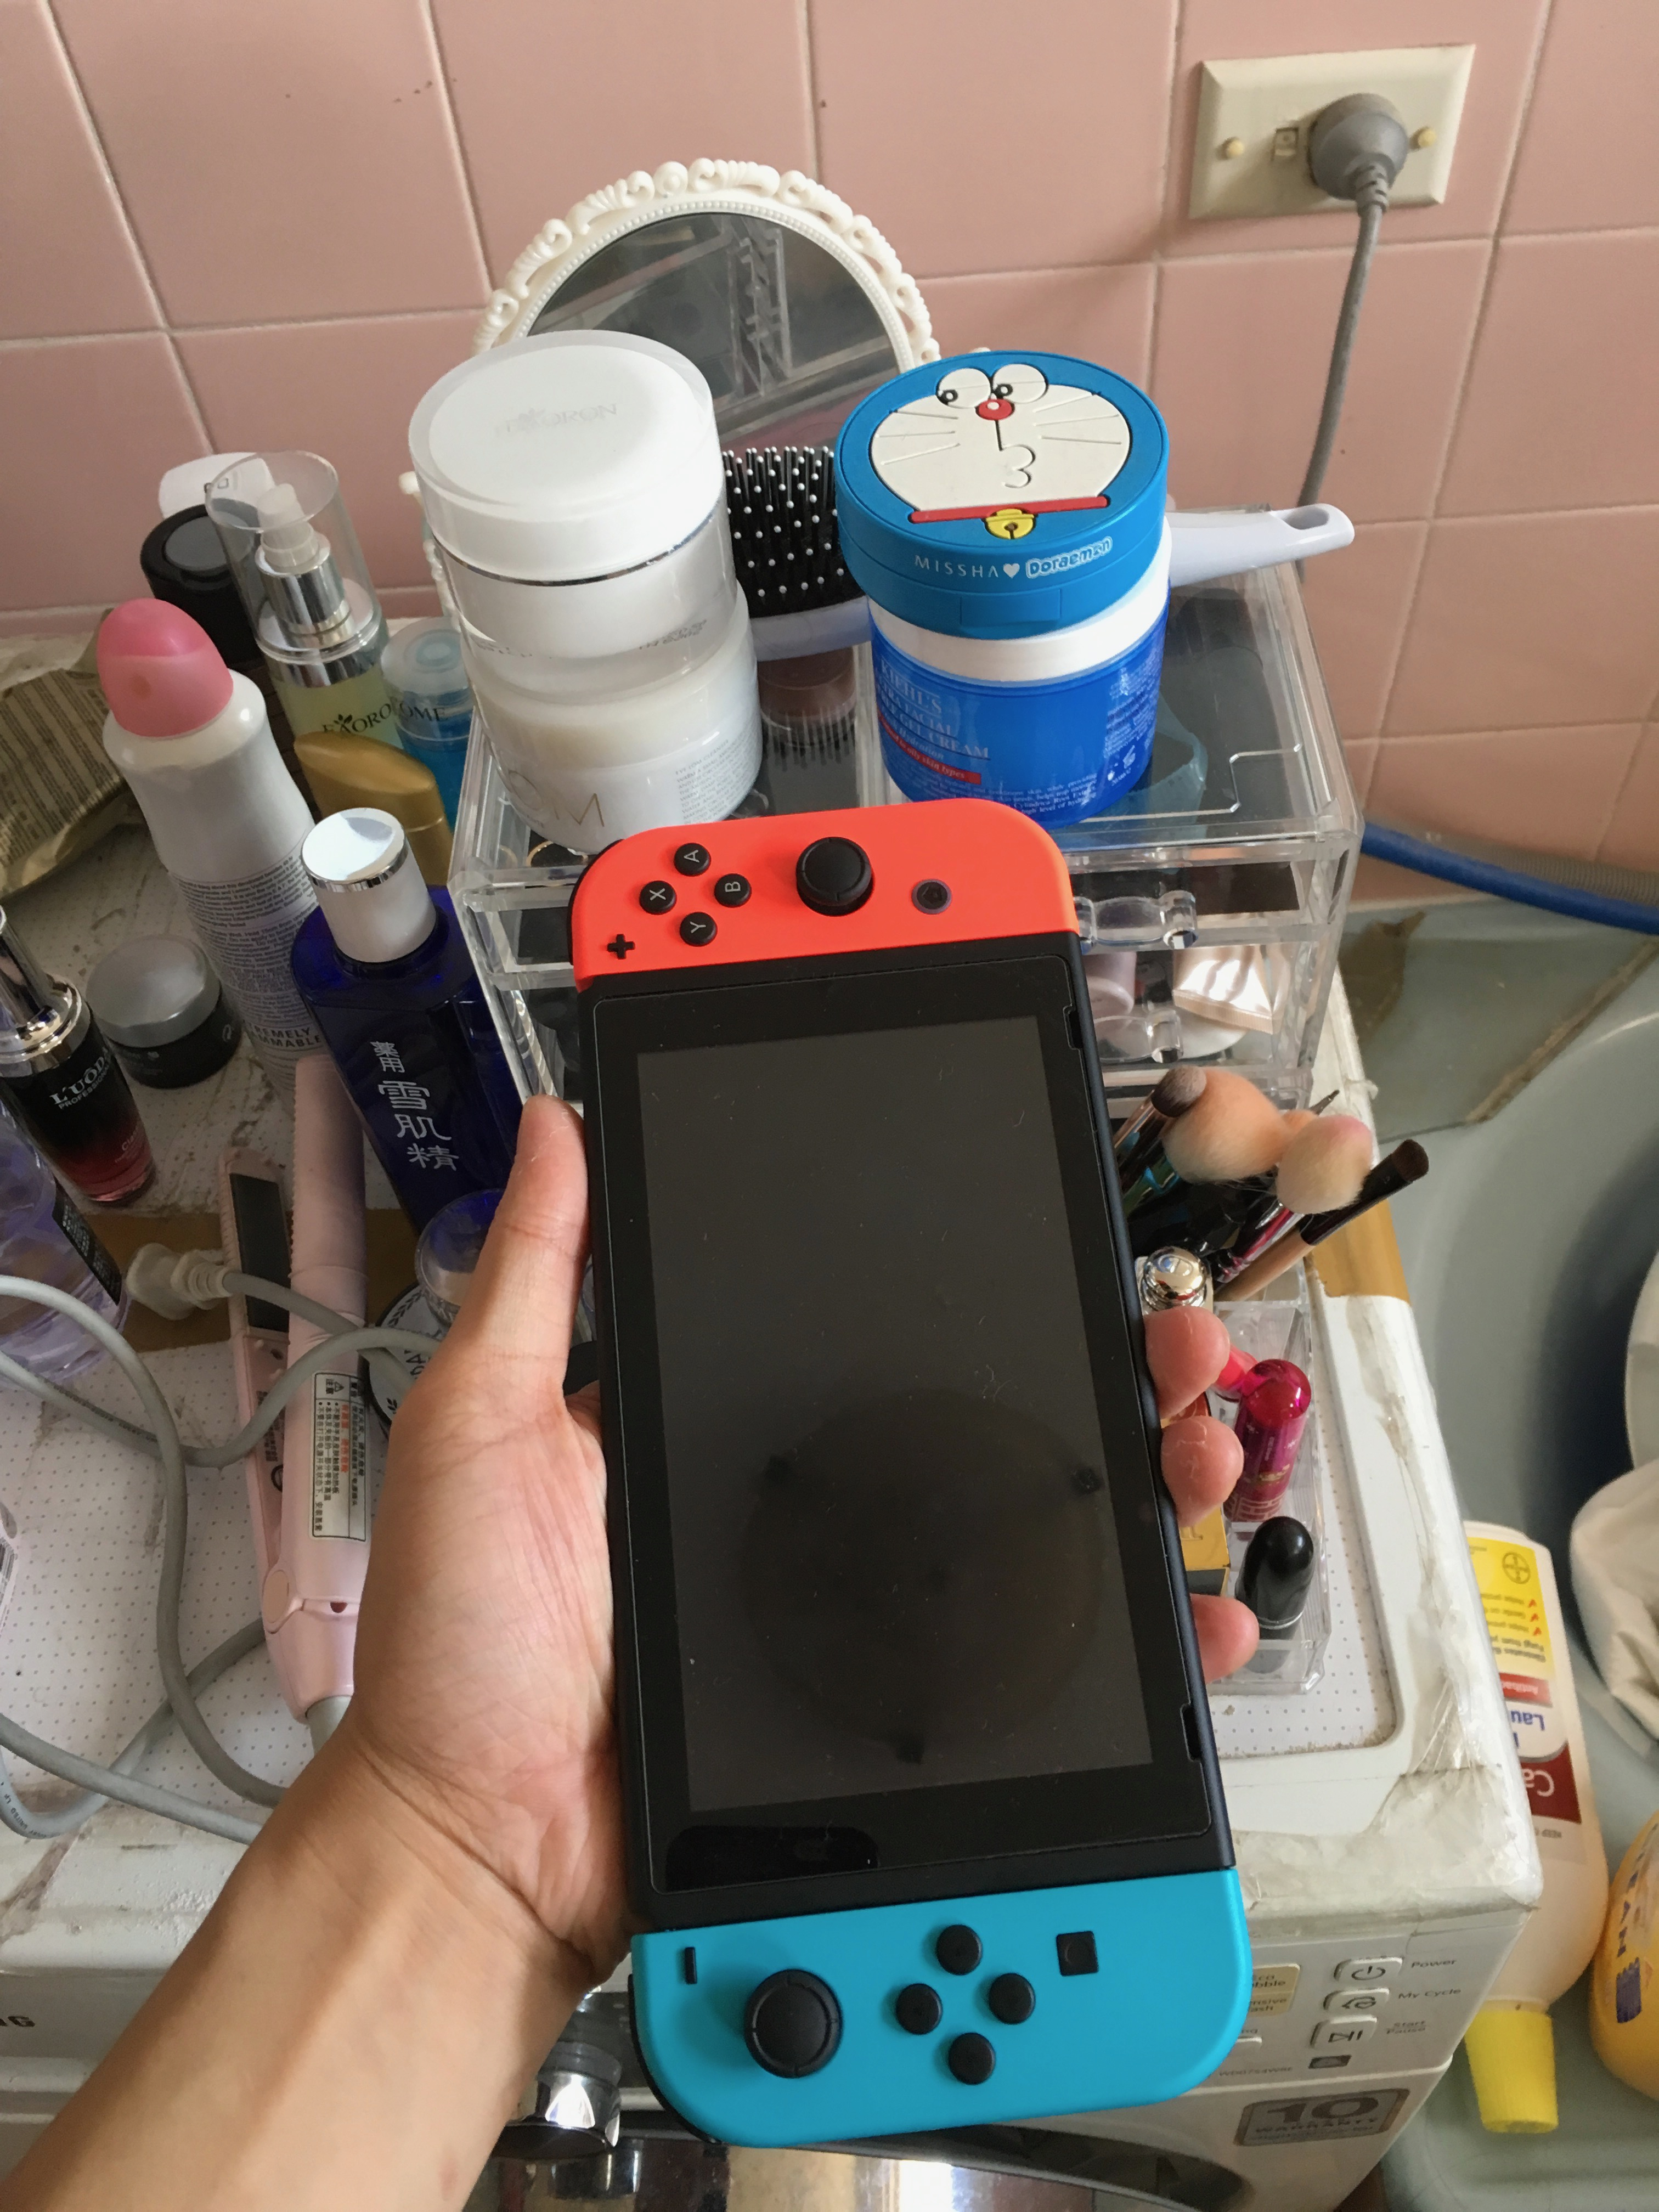NintendoSwitch: (566, 792, 1272, 2161)
